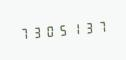five: (56, 20, 68, 39)
one: (69, 19, 81, 38)
seven: (17, 23, 29, 42), (95, 17, 107, 36)
three: (30, 22, 42, 41), (82, 18, 94, 37)
zero: (43, 21, 55, 40)
